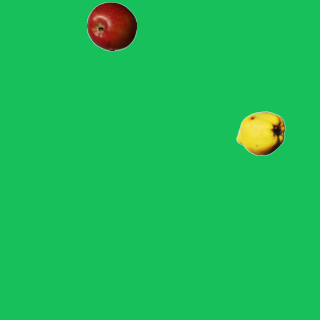Apple Braeburn: (86, 1, 136, 51)
Quince: (235, 108, 285, 158)
